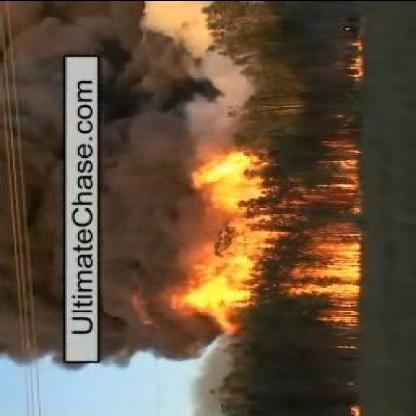-: (106, 40, 186, 360), (5, 58, 58, 364)
foggia-v2-map80-epoch100 - v1 4323: (299, 242, 361, 298)
